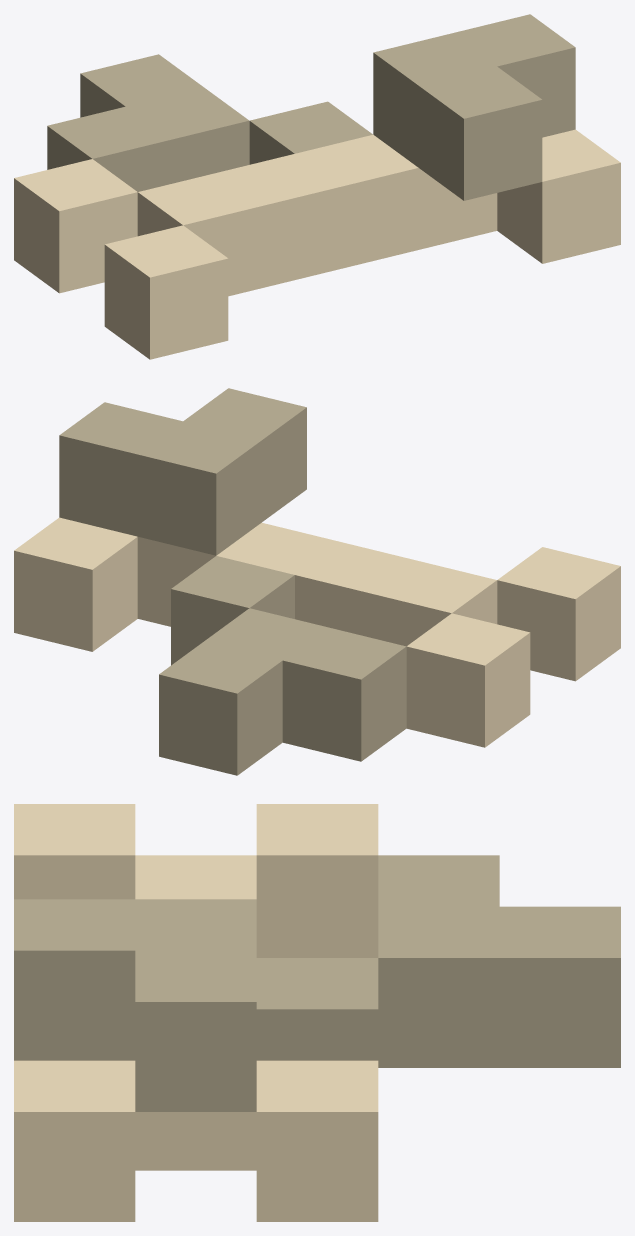
The model's file is cubeland1-0.obj.
3 renders of one model, top to bottom at view 1: azimuth 30°, elevation 25°; view 2: azimuth 150°, elevation 25°; view 3: azimuth 270°, elevation 25°, orthographic. The views are drawn at different scales.
Bounding box in the file's own units: 0.6 × 0.2 × 0.5.
Materials: 1 (1 with a texture image).
